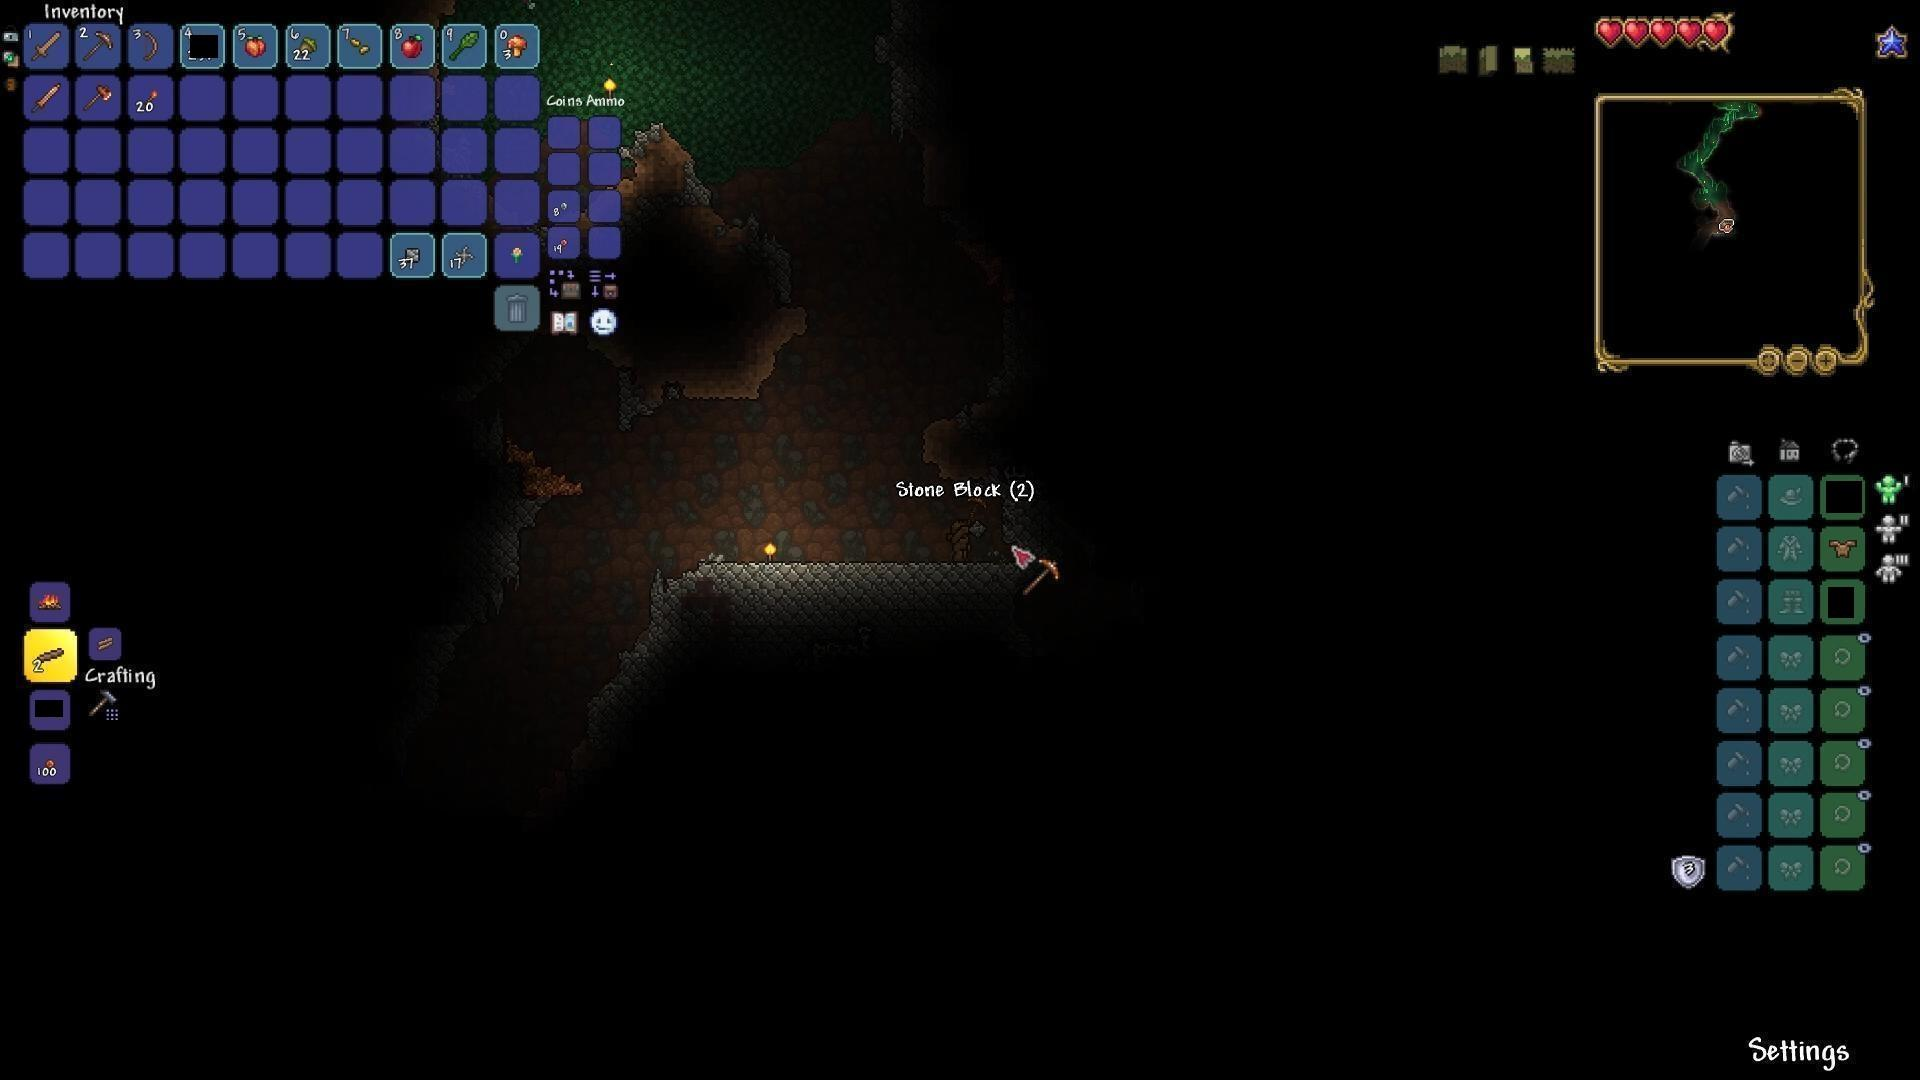breastplate: (1828, 537, 1858, 559)
wood: (98, 632, 113, 651)
